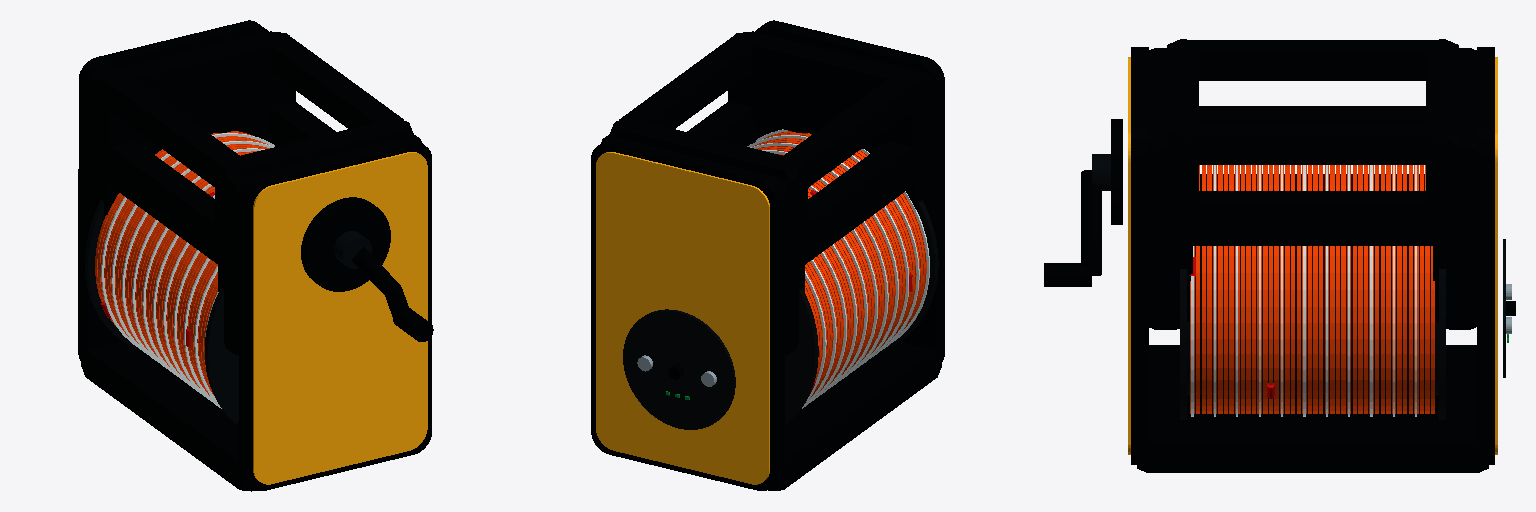
robot.urdf — e_reel:
<?xml version="1.0"?>
<!-- Visual description only. Fixed placements are source estimates, not measured extrinsics. -->
<robot name="e_reel">
<link name="base_link"/>
<link name="reel_housing"><visual><geometry><mesh filename="package://usv_rov_description/meshes/e_reel/reel_housing.dae"/></geometry></visual></link><joint name="reel_housing_fixed" type="fixed"><parent link="base_link"/><child link="reel_housing"/><origin xyz="0 0 0" rpy="0 0 0"/></joint>
<link name="reel_handle"><visual><geometry><mesh filename="package://usv_rov_description/meshes/e_reel/reel_handle.dae"/></geometry></visual></link><joint name="reel_handle_fixed" type="fixed"><parent link="base_link"/><child link="reel_handle"/><origin xyz="0 0 0" rpy="0 0 0"/></joint>
<link name="reel_feet"><visual><geometry><mesh filename="package://usv_rov_description/meshes/e_reel/reel_feet.dae"/></geometry></visual></link><joint name="reel_feet_fixed" type="fixed"><parent link="base_link"/><child link="reel_feet"/><origin xyz="0 0 0" rpy="0 0 0"/></joint>
<link name="reel_drum"><visual><geometry><mesh filename="package://usv_rov_description/meshes/e_reel/reel_drum.dae"/></geometry></visual></link><joint name="reel_drum_fixed" type="fixed"><parent link="base_link"/><child link="reel_drum"/><origin xyz="0 0 0" rpy="0 0 0"/></joint>
<link name="reel_tether"><visual><geometry><mesh filename="package://usv_rov_description/meshes/e_reel/reel_tether.dae"/></geometry></visual></link><joint name="reel_tether_fixed" type="fixed"><parent link="base_link"/><child link="reel_tether"/><origin xyz="0 0 0" rpy="0 0 0"/></joint>
<link name="reel_crank"><visual><geometry><mesh filename="package://usv_rov_description/meshes/e_reel/reel_crank.dae"/></geometry></visual></link><joint name="reel_crank_fixed" type="fixed"><parent link="base_link"/><child link="reel_crank"/><origin xyz="0 0 0" rpy="0 0 0"/></joint>
<link name="reel_controls"><visual><geometry><mesh filename="package://usv_rov_description/meshes/e_reel/reel_controls.dae"/></geometry></visual></link><joint name="reel_controls_fixed" type="fixed"><parent link="base_link"/><child link="reel_controls"/><origin xyz="0 0 0" rpy="0 0 0"/></joint>
</robot>

--- Render facts (derived) ---
Views: 3 orthographic renders of the robot side by side, from view 1: azimuth 30°, elevation 25°; view 2: azimuth 150°, elevation 25°; view 3: azimuth 270°, elevation 25°.
Model e_reel with 8 links and 7 joints (7 fixed), rooted at base_link, posed all joints at 0.
Links seen in each view (by area): view 1: reel_housing, reel_handle, reel_tether, reel_crank, reel_drum; view 2: reel_housing, reel_handle, reel_tether, reel_controls, reel_drum; view 3: reel_housing, reel_tether, reel_handle, reel_drum, reel_crank, reel_controls.
Boxes of the visible links, x1=… form: reel_housing: x1=78, y1=20, x2=431, y2=491; reel_handle: x1=97, y1=31, x2=413, y2=243; reel_tether: x1=95, y1=131, x2=274, y2=408; reel_crank: x1=301, y1=197, x2=433, y2=341; reel_drum: x1=85, y1=200, x2=238, y2=424; reel_housing: x1=591, y1=20, x2=944, y2=490; reel_handle: x1=610, y1=31, x2=926, y2=241; reel_tether: x1=747, y1=129, x2=929, y2=408; reel_controls: x1=623, y1=309, x2=735, y2=429; reel_drum: x1=785, y1=200, x2=938, y2=424; reel_housing: x1=1128, y1=47, x2=1497, y2=472; reel_tether: x1=1190, y1=165, x2=1434, y2=416; reel_handle: x1=1167, y1=39, x2=1458, y2=218; reel_drum: x1=1180, y1=174, x2=1445, y2=419; reel_crank: x1=1044, y1=119, x2=1122, y2=286; reel_controls: x1=1503, y1=239, x2=1515, y2=377.
Size in the robot's own frame: 0.294 by 0.509 by 0.4 metres.
7 mesh visuals loaded from 7 distinct referenced files (7 Collada DAE).
